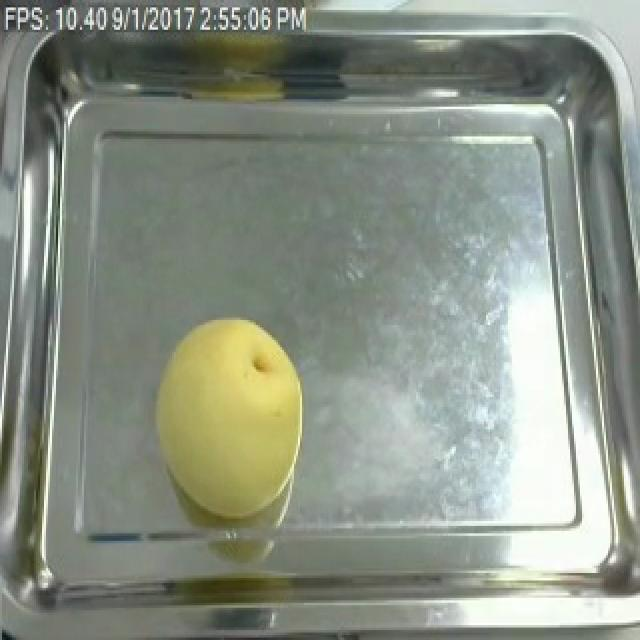Fruit: (144, 307, 312, 524)
